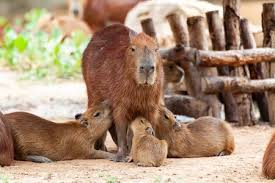capivara: (82, 23, 163, 164), (1, 99, 115, 169), (153, 105, 235, 158), (125, 115, 168, 168)
